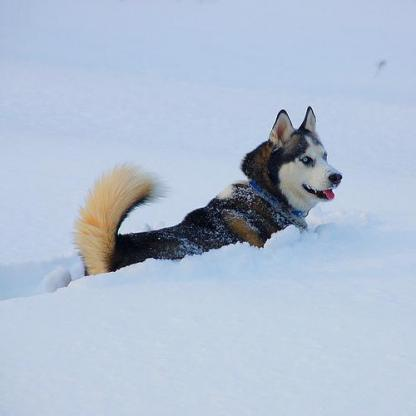Eskimo_dog: (71, 104, 341, 275)
